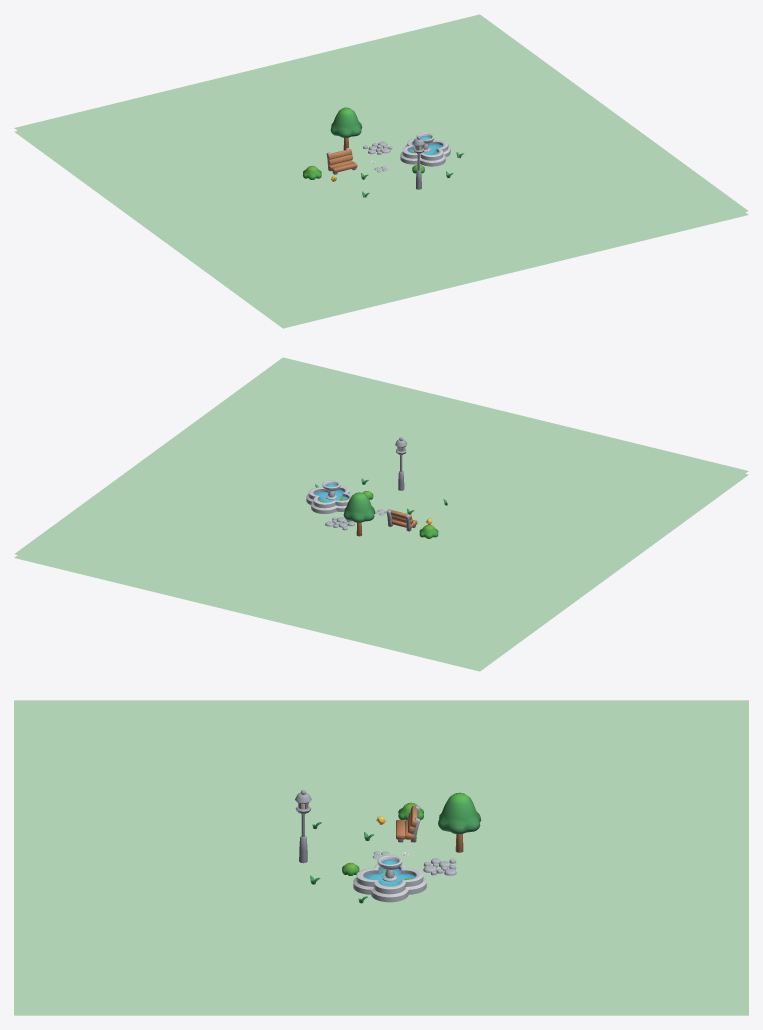
The model's file is TestScene5.glb.
3 renders of one model, top to bottom at view 1: azimuth 30°, elevation 25°; view 2: azimuth 150°, elevation 25°; view 3: azimuth 270°, elevation 25°, orthographic. The views are drawn at different scales.
Parts seen in each view (by area): view 1: Plane.001, Plane, fountain, tree, bench; view 2: Plane.001, Plane, fountain, tree; view 3: Plane.001, Plane, fountain, tree, bench, street_lantern.
Part boxes in pixels (x1,y1,x2,y2): Plane.001: (14, 14, 748, 324); Plane: (14, 131, 748, 328); fountain: (400, 133, 450, 166); tree: (330, 107, 362, 150); bench: (326, 148, 357, 174); Plane.001: (14, 357, 748, 667); Plane: (14, 474, 748, 671); fountain: (306, 480, 352, 513); tree: (343, 492, 375, 536); Plane.001: (14, 700, 748, 1010); Plane: (14, 1010, 748, 1015); fountain: (353, 855, 426, 902); tree: (438, 792, 480, 852); bench: (396, 805, 420, 842); street_lantern: (295, 790, 311, 863).
Size of the model in its own units: 40.1 by 4.6 by 40.1.
16 materials, 14 textured.
